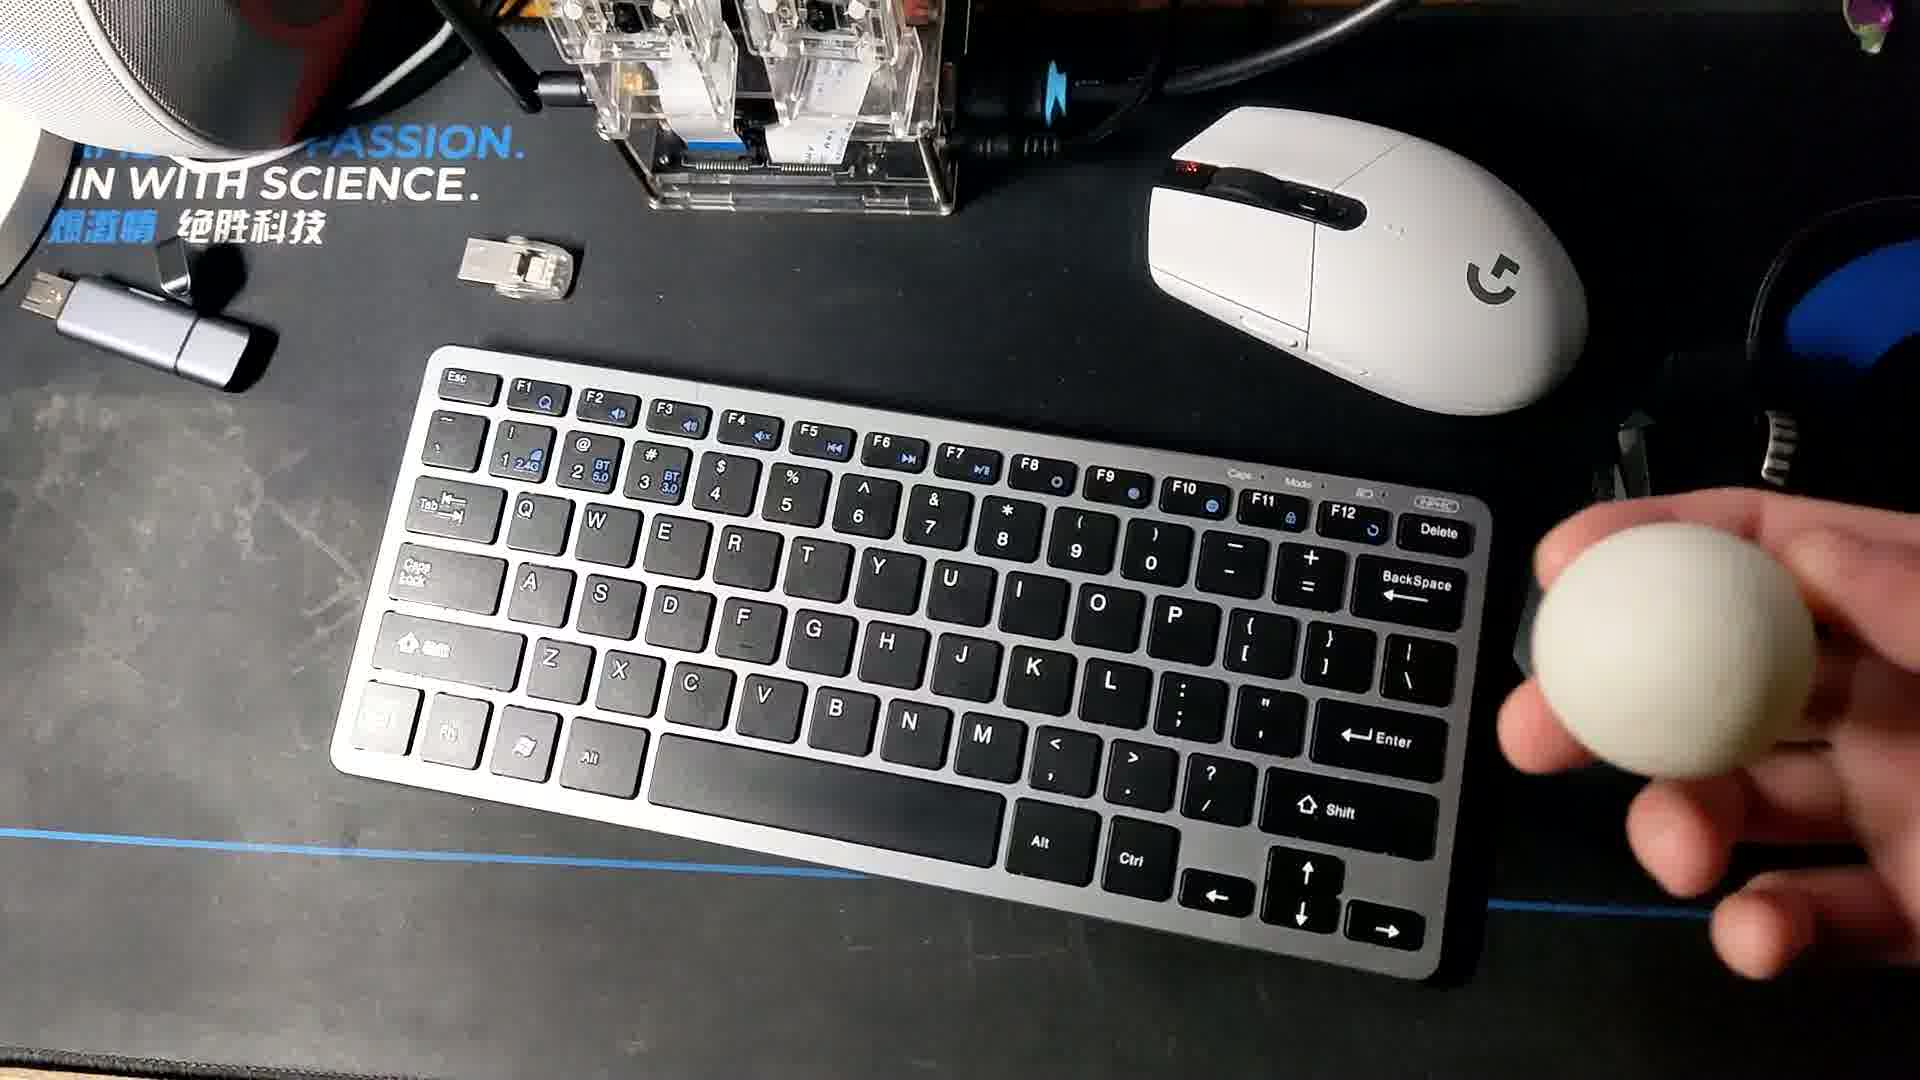Ball: (1538, 526, 1808, 782)
